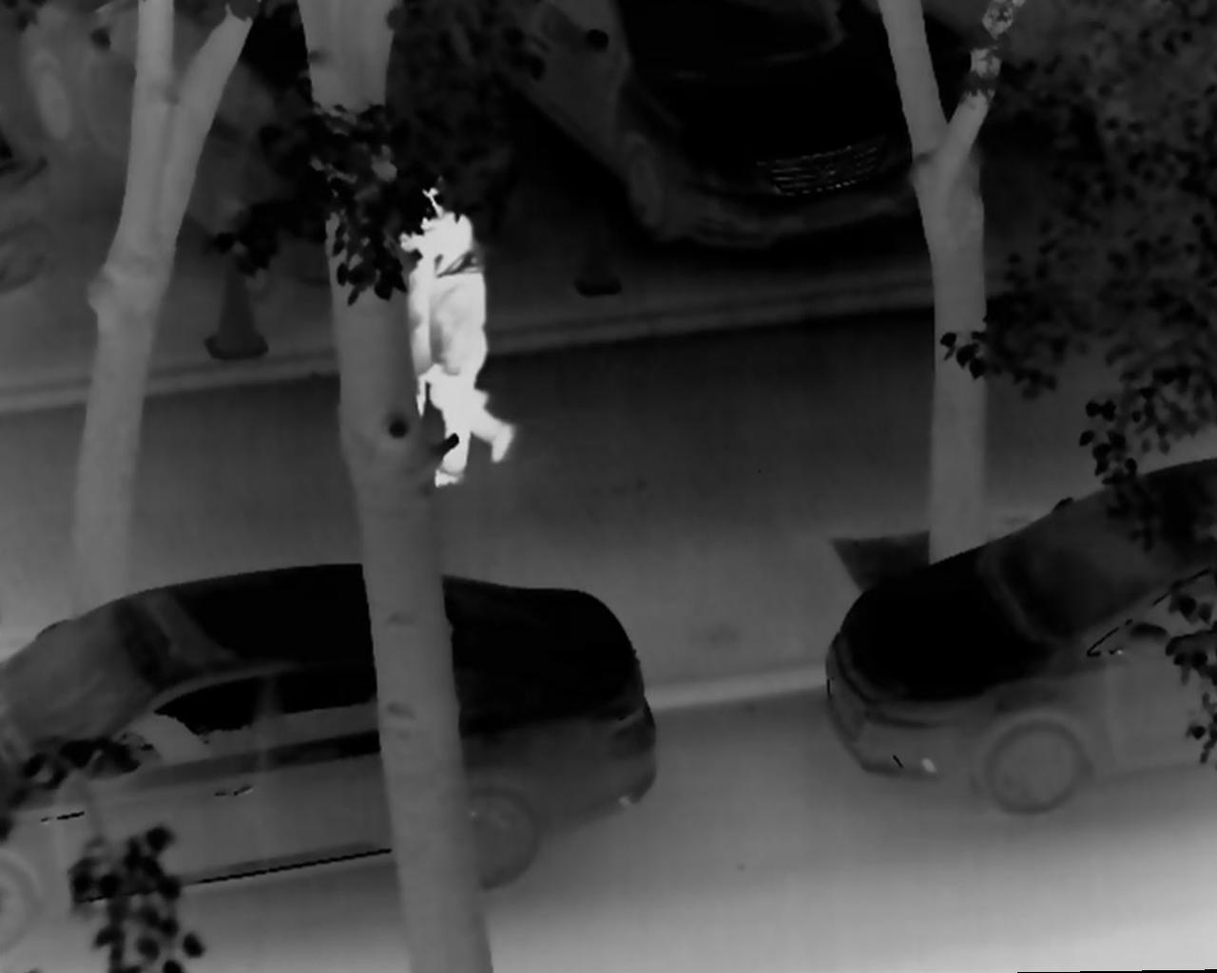person: (366, 172, 494, 429), (421, 212, 519, 489)
